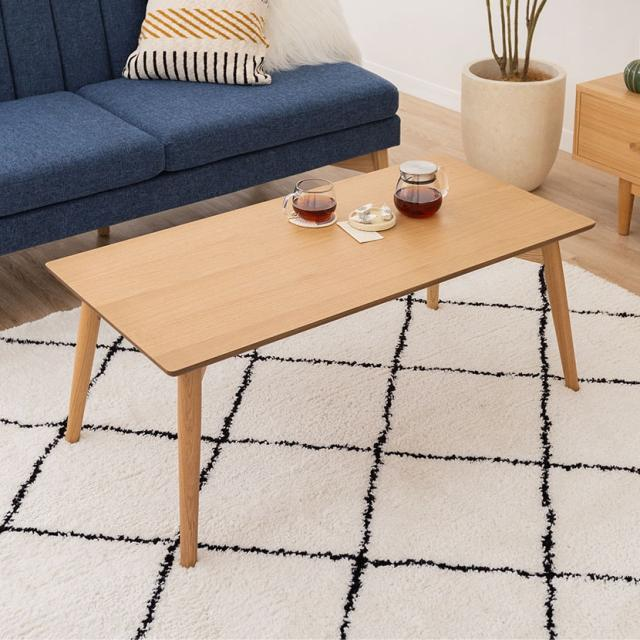natural desk: (35, 150, 632, 571)
natural sofa: (0, 3, 407, 149)
